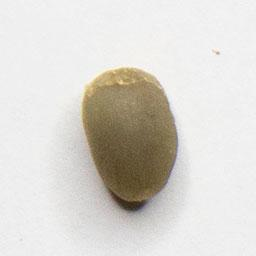peaberry: (76, 62, 183, 206)
